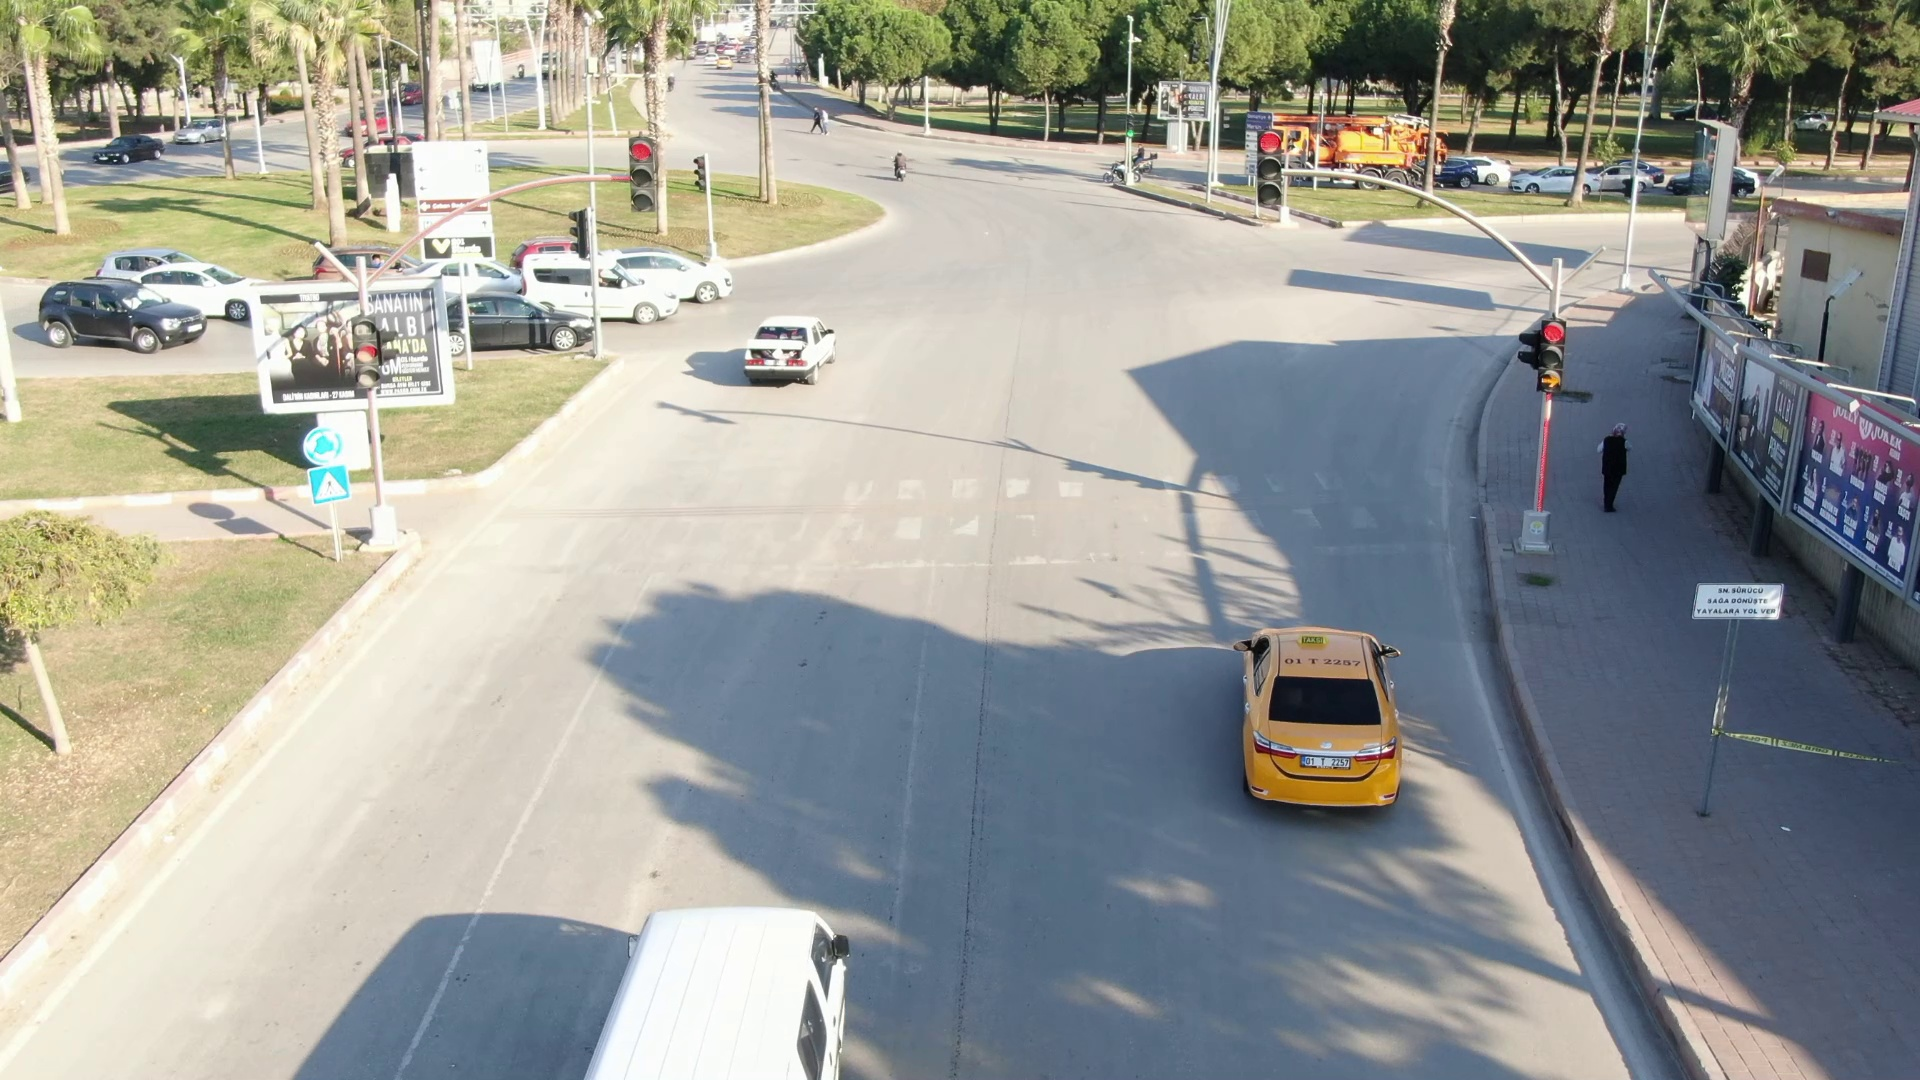car: (579, 900, 861, 1080), (1229, 594, 1404, 825), (19, 261, 210, 353), (521, 253, 692, 329), (447, 276, 600, 357), (610, 229, 741, 298), (737, 319, 845, 388)
person: (1594, 410, 1641, 514), (886, 143, 914, 190)
